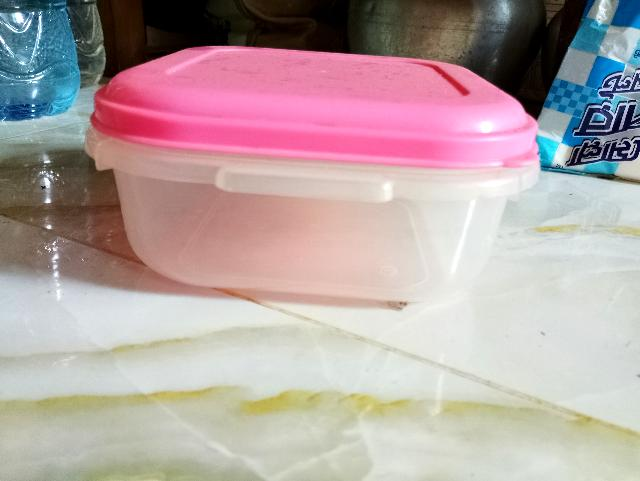hardplastic: (89, 26, 528, 317)
